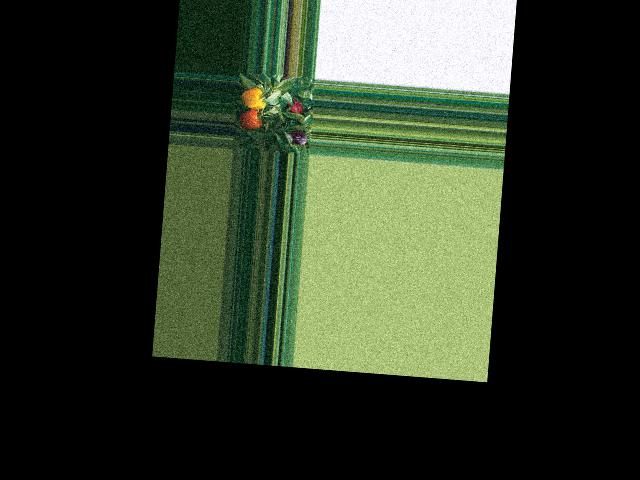bell_pepper: (240, 87, 267, 115)
